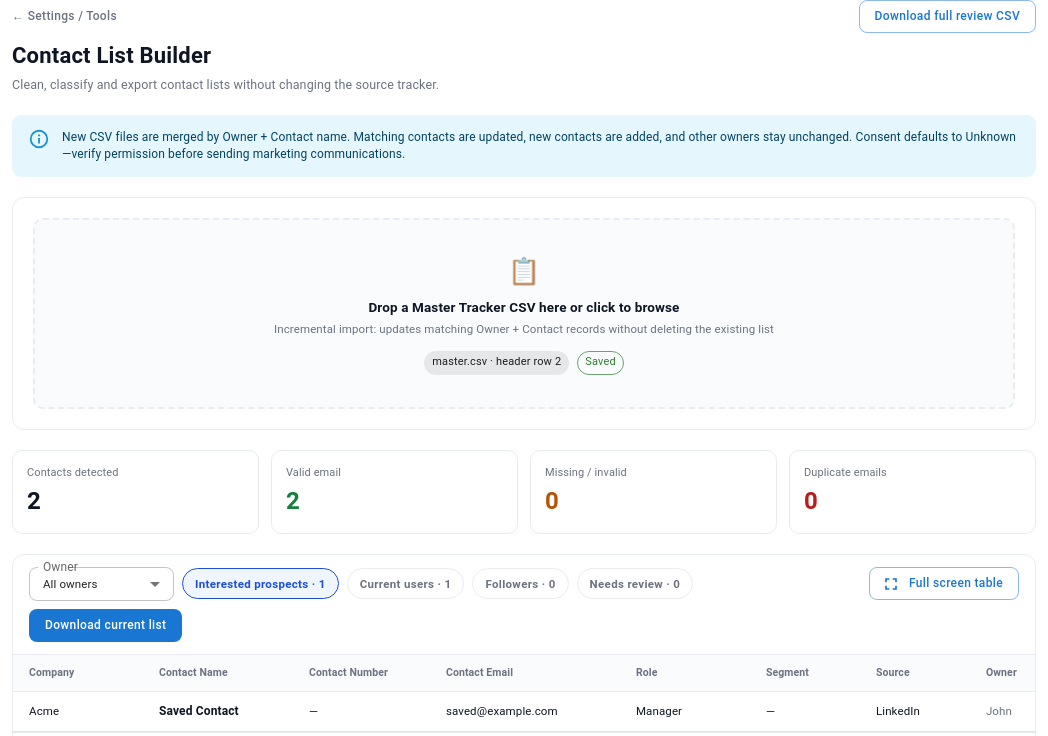
Scenario: AdminContactListBuilderPage access › deselects the active category filter to show all categories
What coordinates should you click on to do the following:
click the button "Interested prospects · 1"
I would click on:
 (260, 584)
Its box is 182,568 -> 339,599.
(page scrolled)
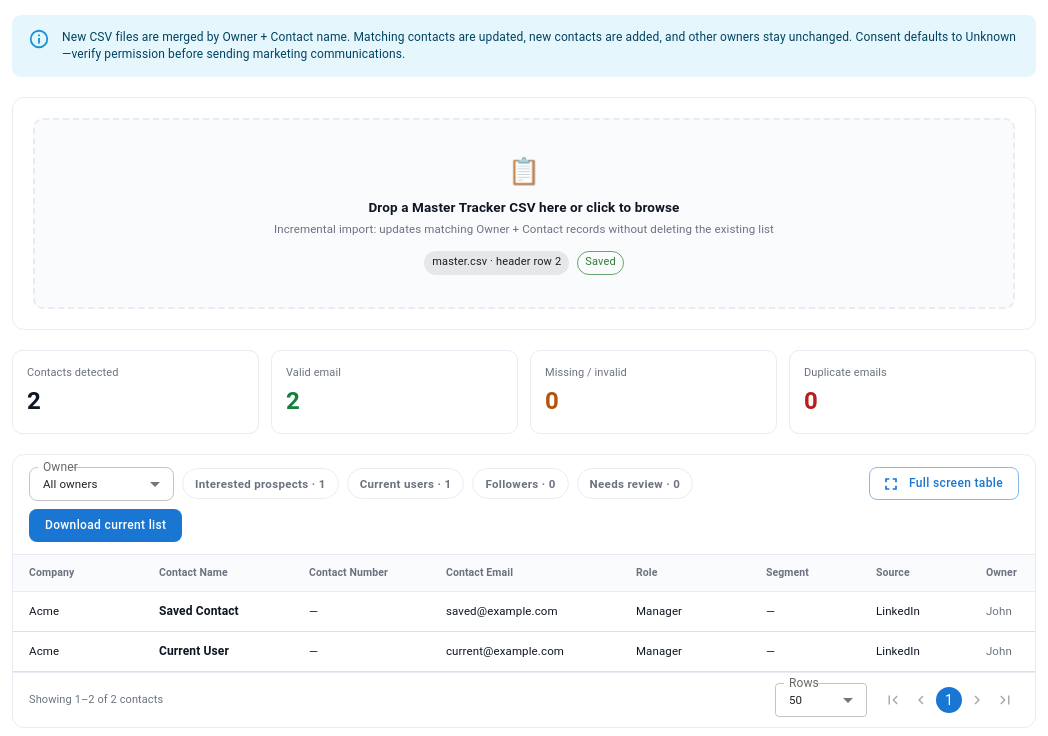
Check: the text "Saved Contact" is shown, box 143,591 -> 293,632
Check: the text "Current User" is shown, box 143,632 -> 293,672
